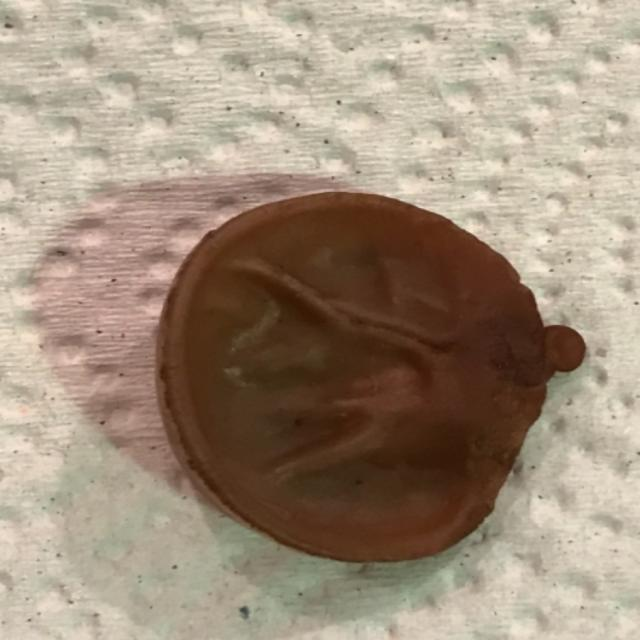Auricularia auricula: (160, 190, 584, 565)
